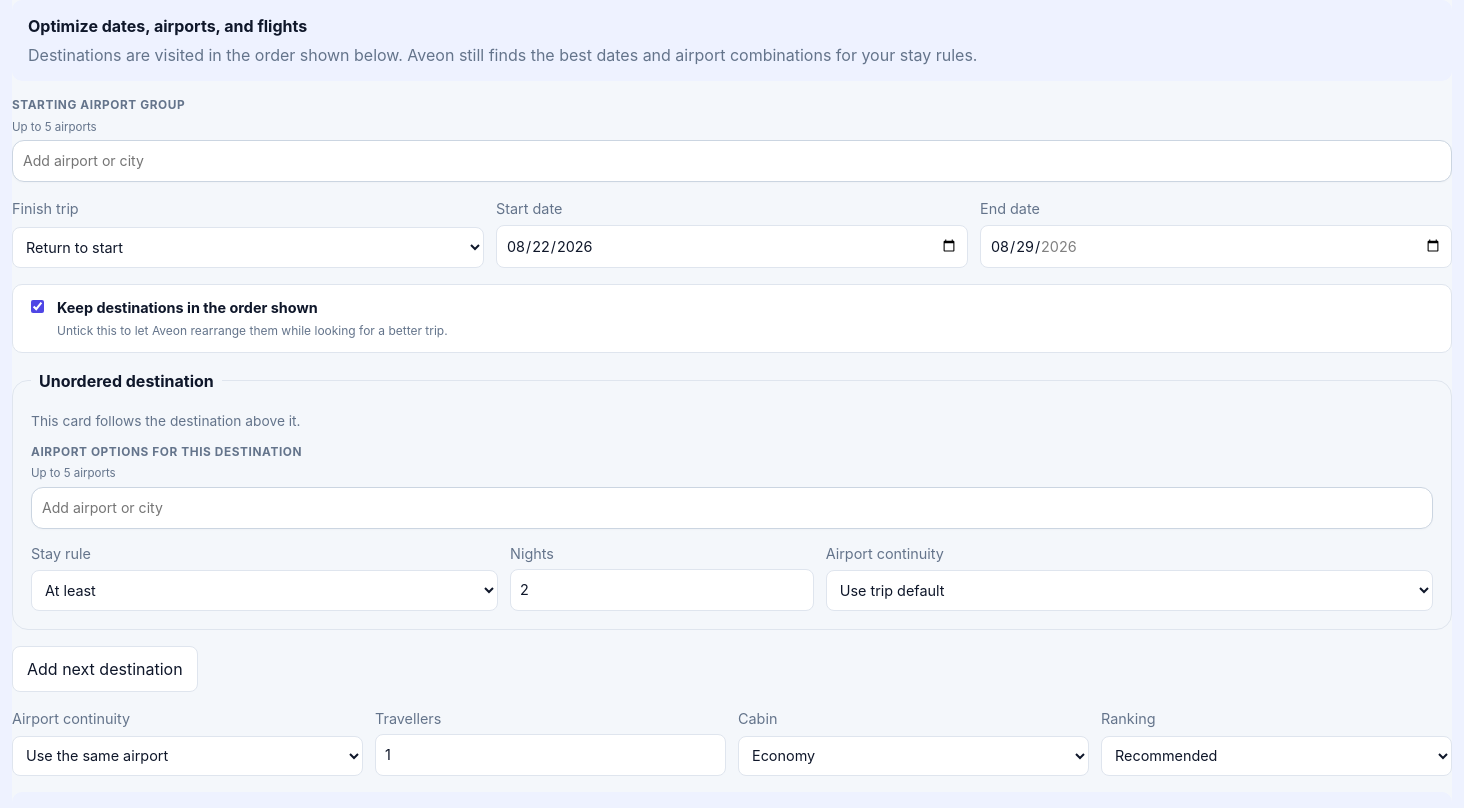
it: OptimizedTripSearch › keeps the shown order by default and can allow destination reordering
Expected: the element with class "mode-introduction" shows "order shown", [28, 45, 977, 65]
Click the checkbox at (38, 307), box [31, 300, 44, 313]
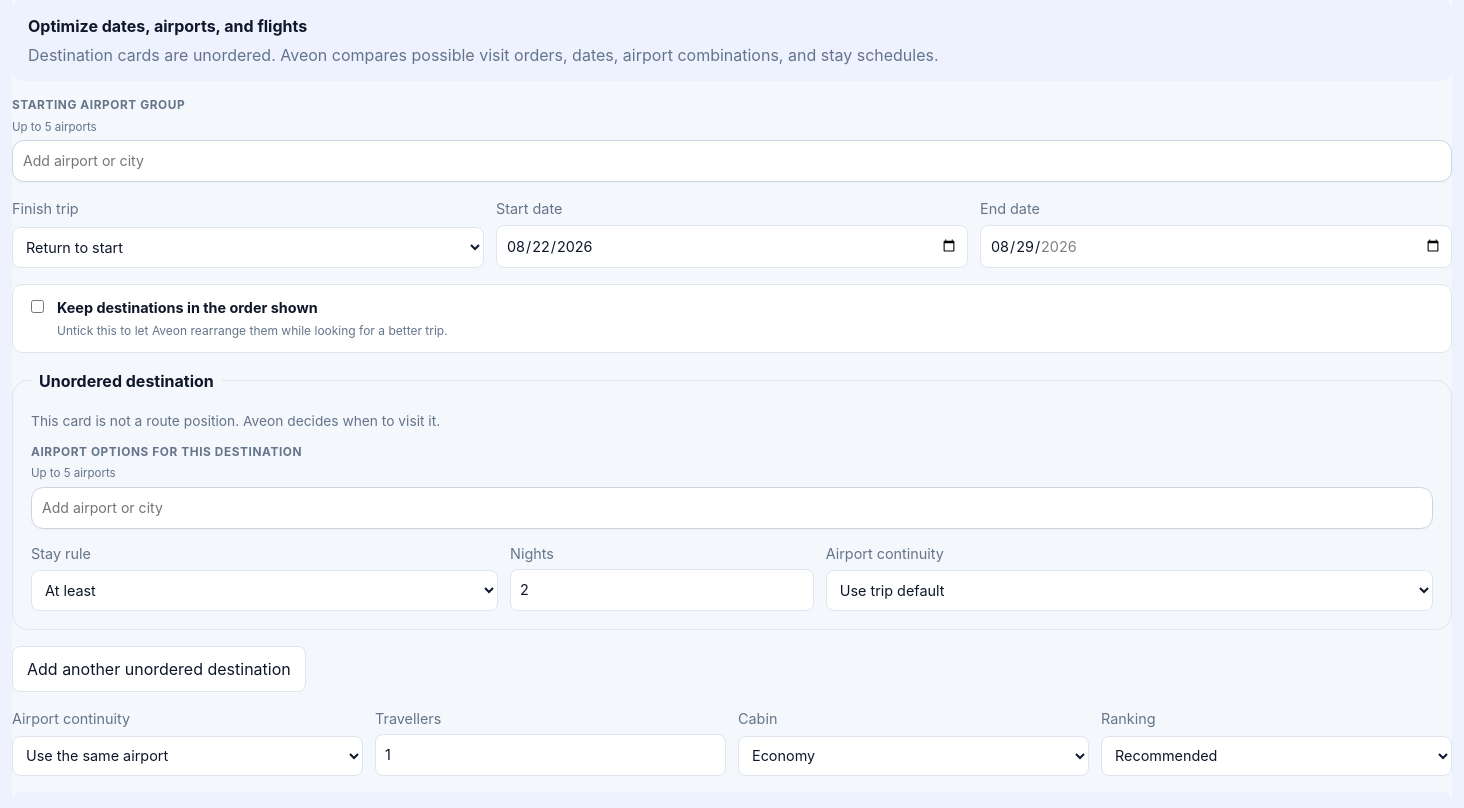
Expected: the element with class "mode-introduction" shows "cards are unordered", [28, 45, 939, 65]
Expected: the button with class "secondary-action" reads "Add another unordered destination", [12, 646, 306, 692]
